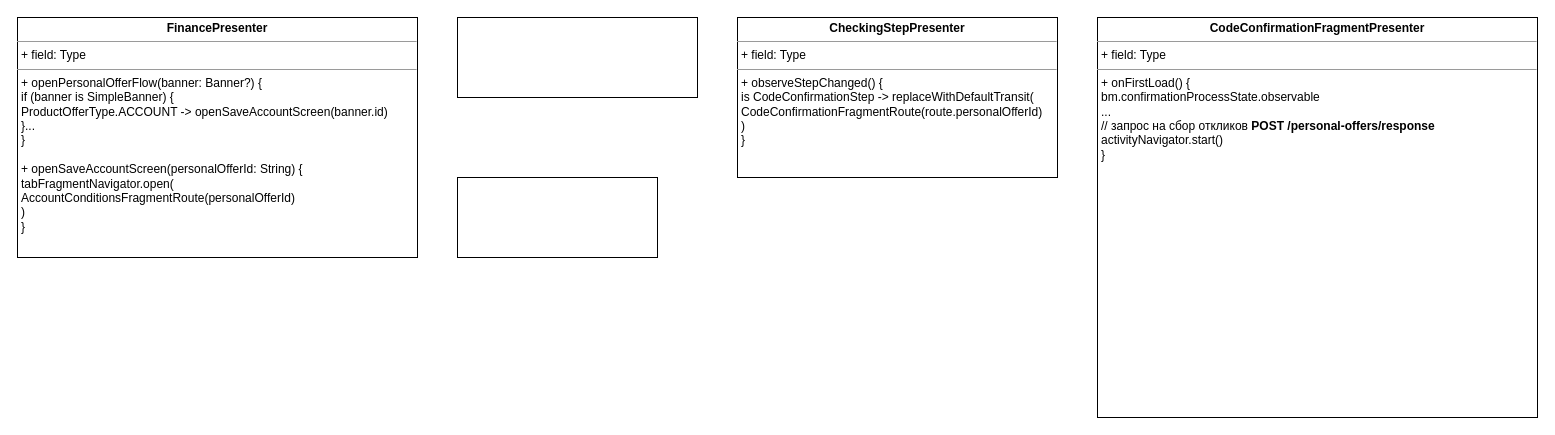
This 1555x435 diagram has some shape labels left out. Here are the shapes that lost their labels. From the top down, the centre of each, then its label:
At [577,57]: "AccountConditionsFragmentRoute + personalOfferId: String? + method(): Type".
At [557,217]: "CheckingStepActivityRoute + personalOfferId: String? + method(): Type".
